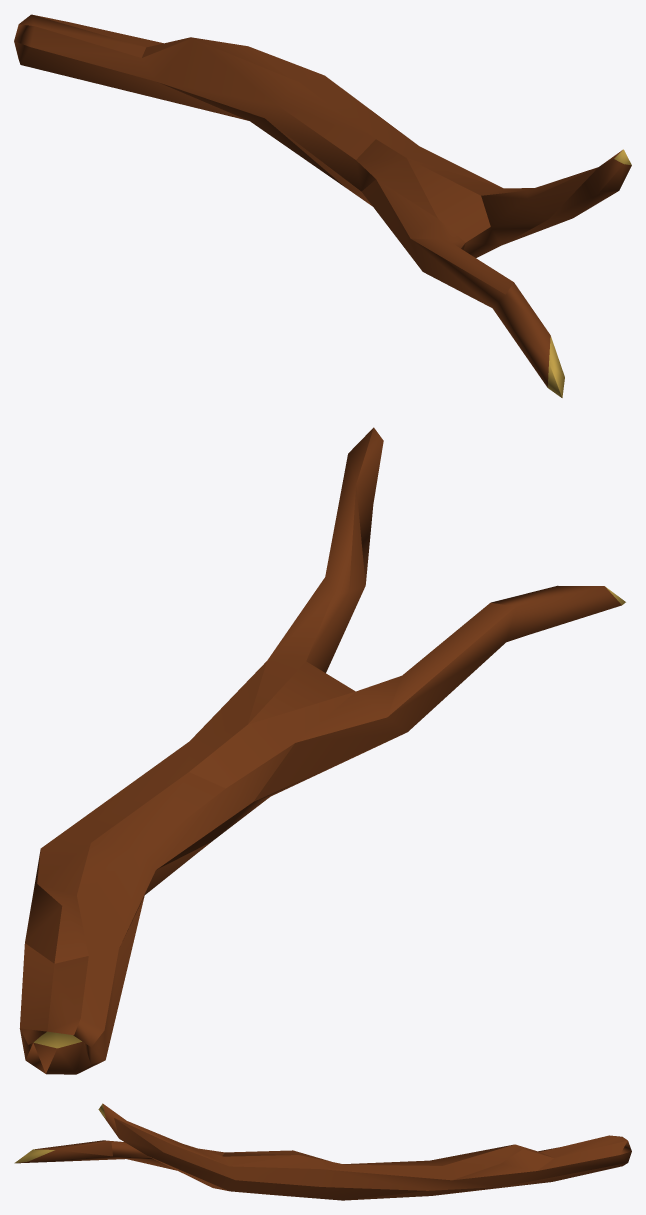
Rendered from Log2.fbx.
3 renders of one model, top to bottom at view 1: azimuth 30°, elevation 25°; view 2: azimuth 150°, elevation 25°; view 3: azimuth 270°, elevation 25°, orthographic. The views are drawn at different scales.
Parts seen in each view (by area): view 1: Log_2; view 2: Log_2; view 3: Log_2.
Part boxes in pixels (x1=…): Log_2: x1=14, y1=14, x2=631, y2=397; Log_2: x1=19, y1=427, x2=625, y2=1074; Log_2: x1=14, y1=1103, x2=631, y2=1200.
Bounding box in the file's own units: 89.29 × 76.16 × 384.
